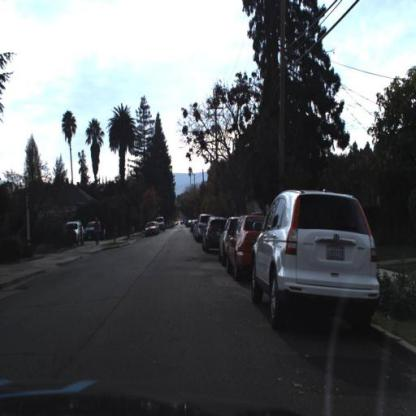car: (250, 186, 385, 336), (226, 214, 268, 281), (202, 217, 225, 254), (218, 214, 235, 264), (196, 213, 210, 242), (85, 220, 101, 241), (70, 220, 84, 243), (144, 222, 159, 237), (157, 217, 167, 233)
pedestrian: (94, 217, 100, 248)
